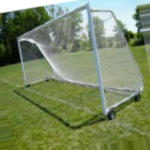goals: (14, 1, 145, 115)
